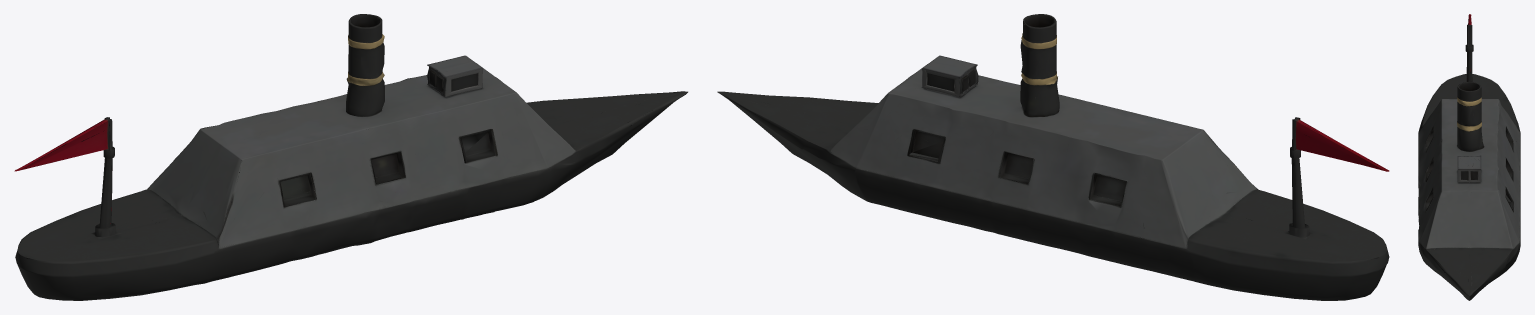
The model's file is ironclad.glb.
3 views of the same model, side by side, from view 1: azimuth 30°, elevation 25°; view 2: azimuth 150°, elevation 25°; view 3: azimuth 270°, elevation 25° (orthographic). The views are drawn at different scales.
Visible parts, largest first — view 1: geometry_0; view 2: geometry_0; view 3: geometry_0.
Boxes of the visible parts, <box> form: geometry_0: <box>14,14,687,300</box>; geometry_0: <box>717,14,1389,300</box>; geometry_0: <box>1418,14,1520,300</box>.
Bounding box in the file's own units: 0.9575 × 0.2627 × 0.1851.
1 material, 1 textured.
